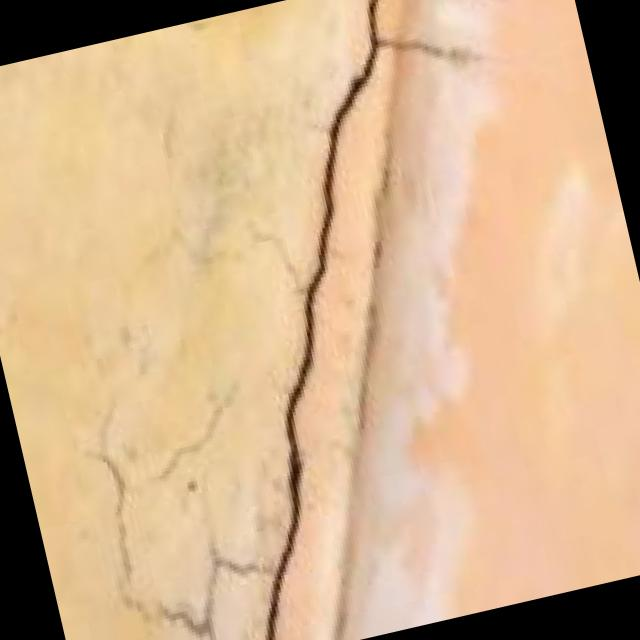crack: (81, 0, 518, 640)
